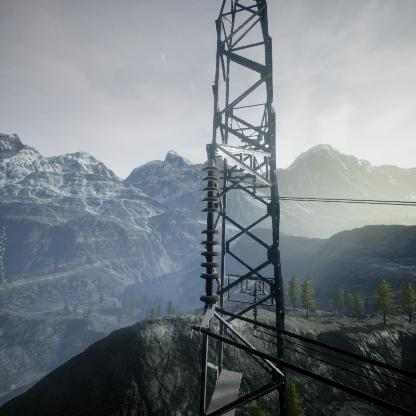insulator: (200, 159, 221, 308), (252, 156, 258, 196), (252, 288, 258, 327)
